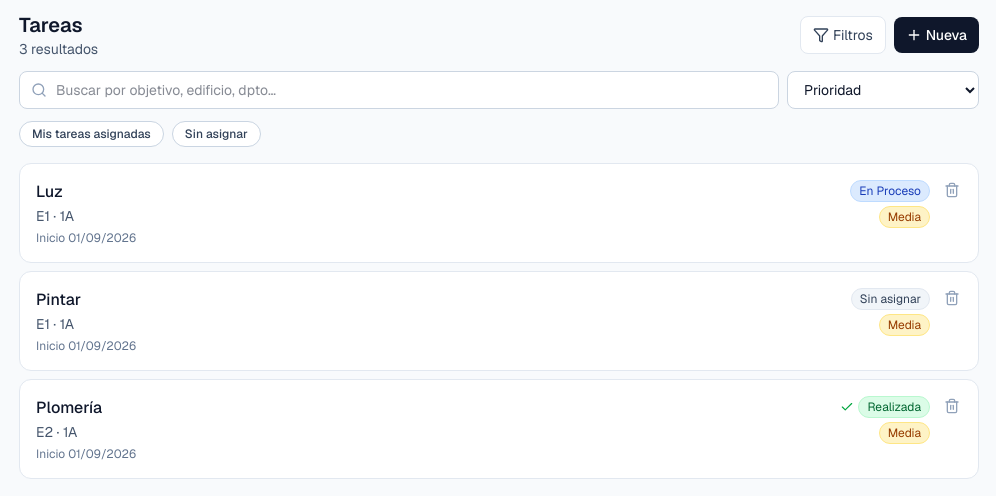
Test case: TareasPage — filtros en memoria › buscar reduce la lista en memoria
The image size is (996, 496).
Expected: the text "3 resultados" is shown, top-left (19, 39), bottom-right (98, 59)
Type "plom" into the search field named "Buscar tareas".
click(399, 90); type("plom")  # box top-left (19, 71), bottom-right (779, 109)
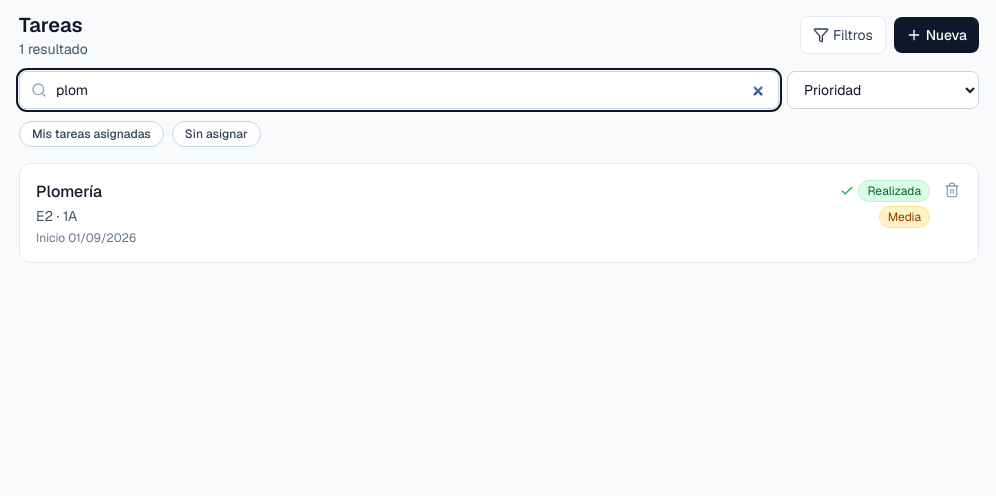
Expected: the heading "Plomería" is shown, top-left (36, 181), bottom-right (102, 202)
Result: the text "1 resultado" is shown at top-left (19, 39), bottom-right (88, 59)
